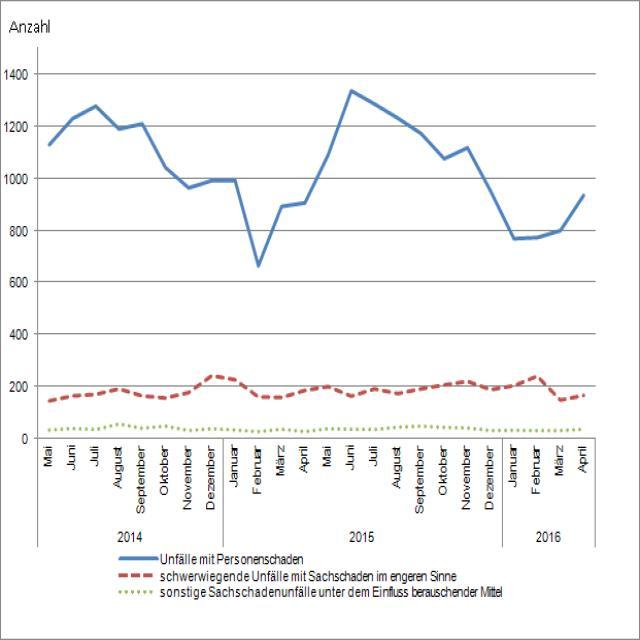axis: (34, 433, 607, 443), (32, 43, 40, 450)
line: (44, 86, 588, 270), (46, 371, 589, 408), (46, 419, 584, 436)
